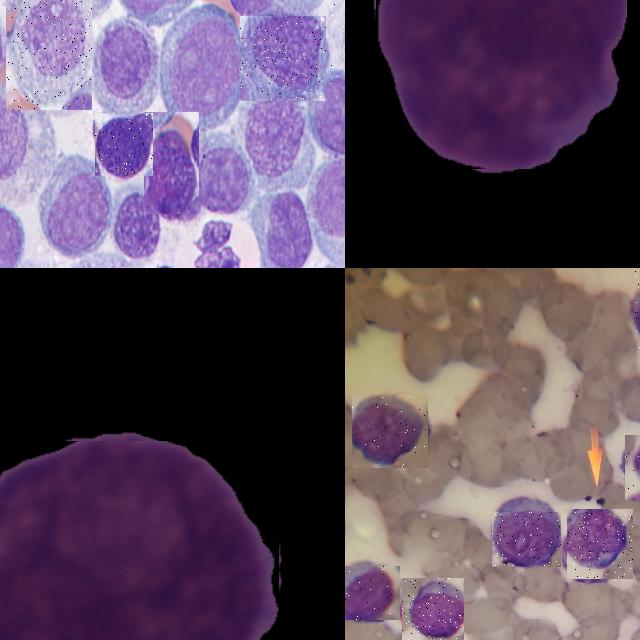ALL Negative Cells: (377, 0, 626, 169), (5, 0, 92, 109), (240, 16, 326, 101)
ALL Positive Cell: (0, 441, 279, 640), (352, 394, 428, 468), (144, 112, 199, 214), (567, 509, 633, 579), (492, 512, 561, 567), (402, 578, 463, 640), (94, 113, 152, 176), (345, 566, 400, 620)
